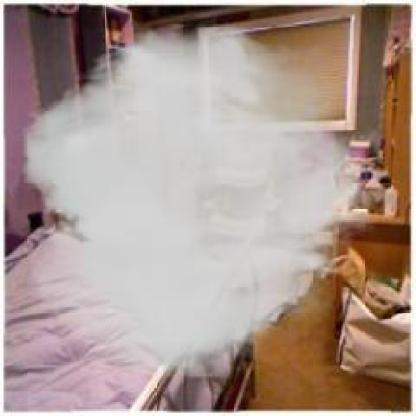Smoke: (22, 18, 386, 377)
